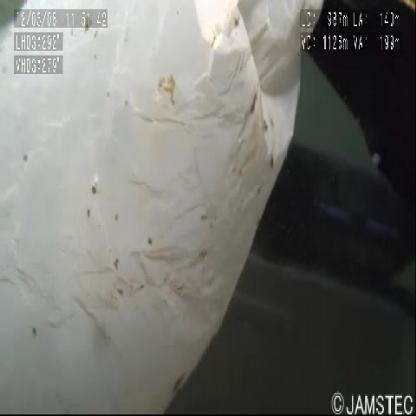Rov: (302, 3, 416, 239)
Rác: (1, 1, 325, 416)
